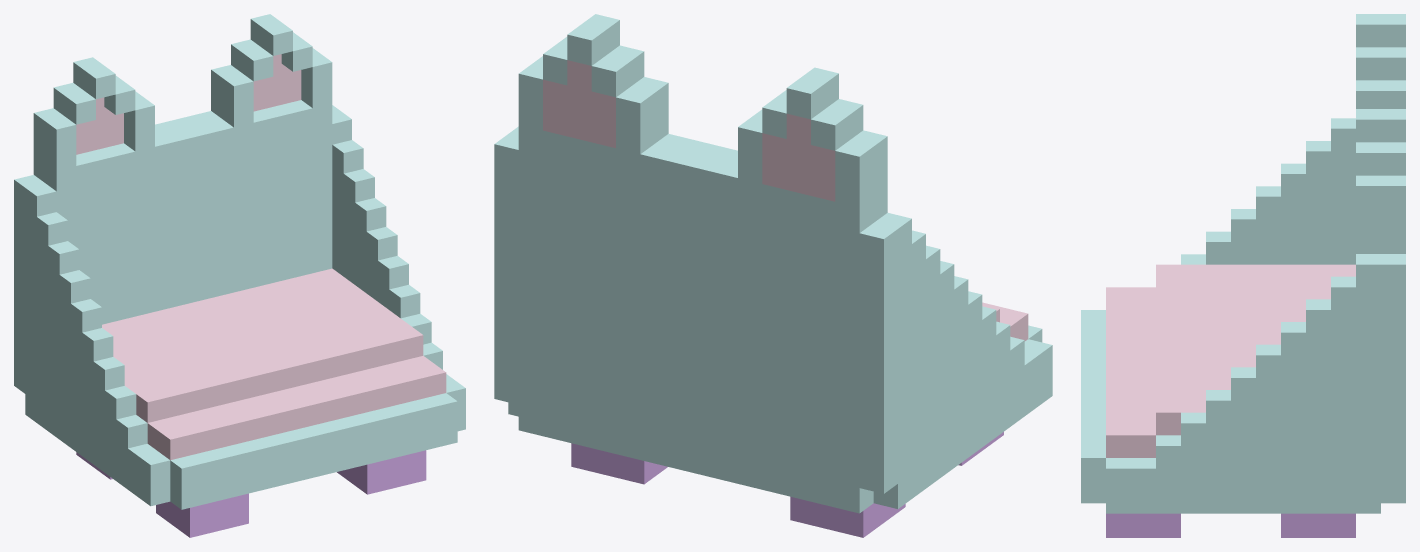
The model's file is Trono.obj.
The picture shows the model from 3 angles, left to right: view 1: azimuth 30°, elevation 25°; view 2: azimuth 150°, elevation 25°; view 3: azimuth 270°, elevation 25°; orthographic projection. The views are drawn at different scales.
Bounding box in the file's own units: 1.6 × 1.8 × 1.3.
1 material, 1 textured.
